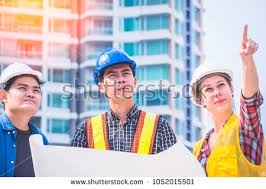helmet: (189, 61, 236, 107), (92, 47, 140, 86), (1, 60, 47, 88)
person with full safety: (74, 46, 175, 148), (187, 60, 261, 160)
person with partial safety: (1, 62, 50, 136)
safety vest: (194, 115, 257, 175), (88, 105, 159, 152)
